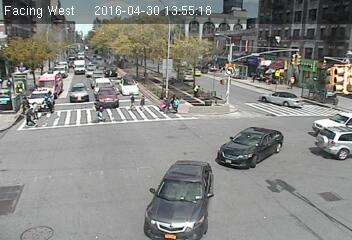neg: (156, 139, 191, 186), (212, 2, 242, 41), (21, 161, 50, 199), (156, 40, 177, 68), (94, 39, 115, 66), (41, 39, 59, 63), (122, 7, 139, 29), (169, 5, 185, 26)
